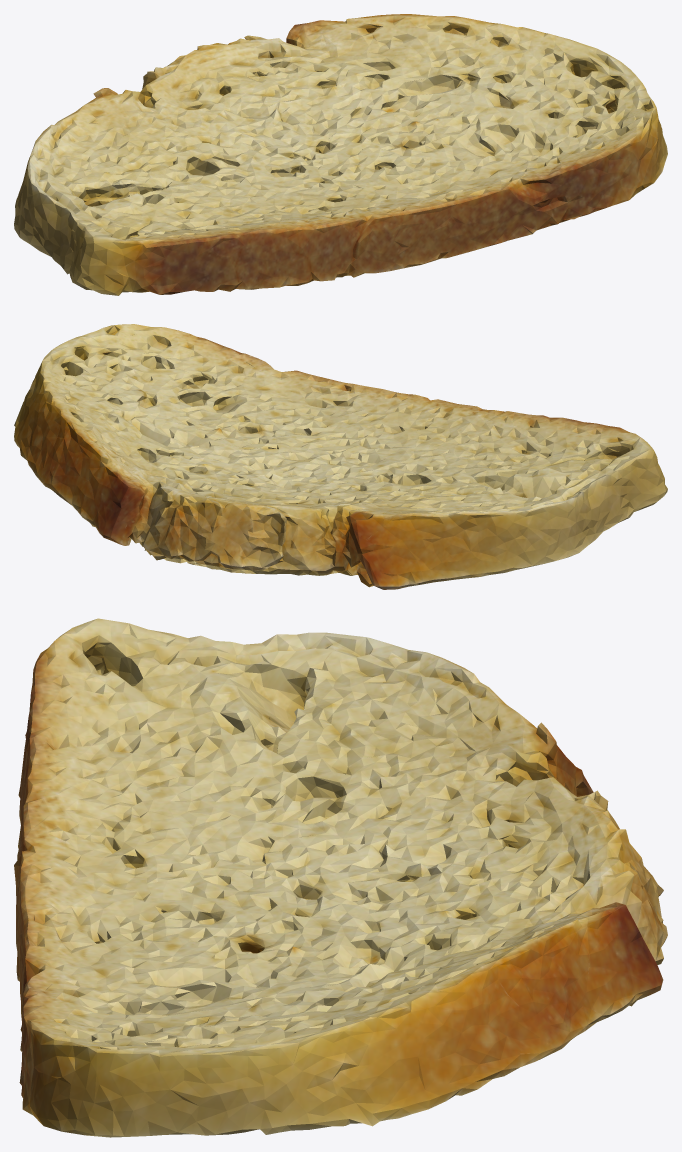
File: sliced_bread.fbx
The picture shows the model from 3 angles, top to bottom: view 1: azimuth 30°, elevation 25°; view 2: azimuth 150°, elevation 25°; view 3: azimuth 270°, elevation 25°; orthographic projection. The views are drawn at different scales.
Visible parts, largest first — view 1: bread_20k; view 2: bread_20k; view 3: bread_20k.
Boxes of the visible parts, x1,y1,x2,y2 form: bread_20k: (14,14,667,295); bread_20k: (14,324,667,589); bread_20k: (14,618,667,1137).
Size of the model in its own units: 14.48 by 2.16 by 8.82.
Materials: 1 (1 with a texture image).
